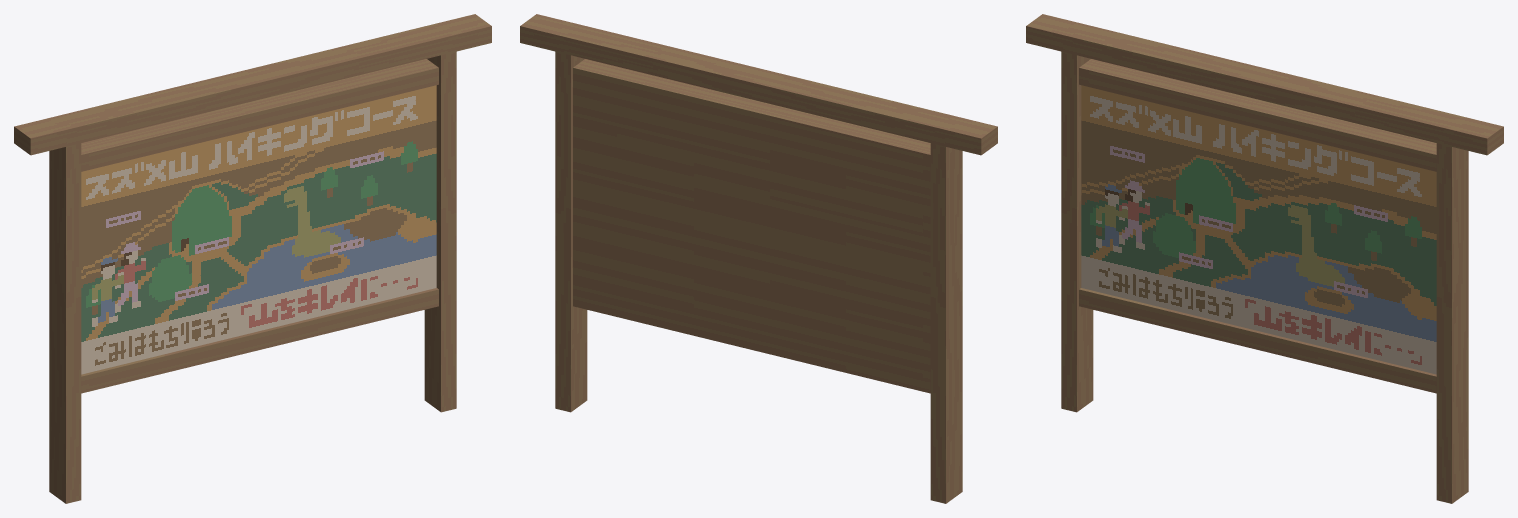
File: 045d_Hiking_Course_Map.glb
3 renders of one model, left to right at view 1: azimuth 30°, elevation 25°; view 2: azimuth 150°, elevation 25°; view 3: azimuth 330°, elevation 25°, orthographic.
Parts seen in each view (by area): view 1: part_0; view 2: part_0; view 3: part_0.
Part boxes in pixels (x1,y1,x2,y2): part_0: [14, 14, 491, 503]; part_0: [520, 14, 997, 503]; part_0: [1026, 14, 1503, 503].
Size of the model in its own units: 2.84 by 2.2 by 0.1757.
1 material, 1 textured.
